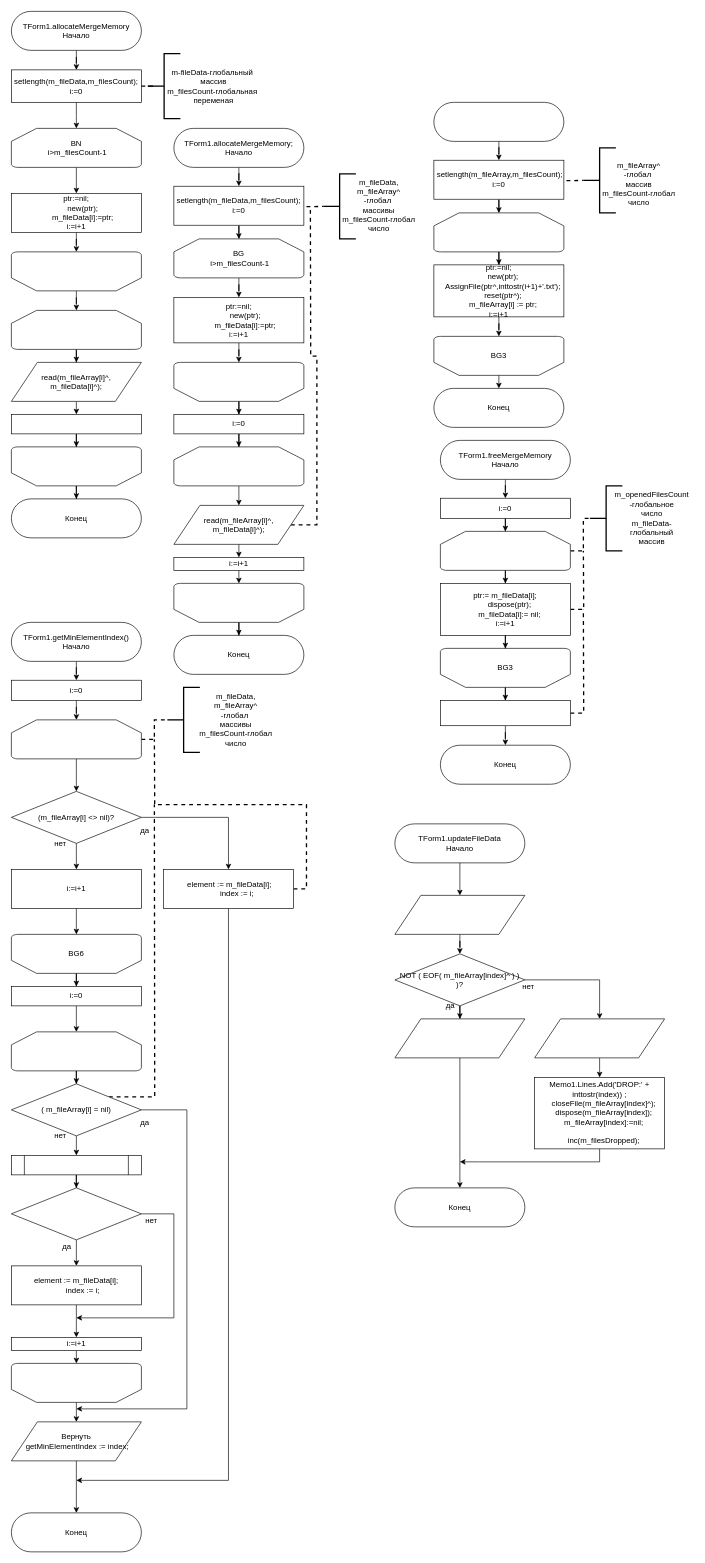
Some shapes in this 705 by 1563 pixel diagram are drawn without their labels. Here are the shapes that lost their labels. From the top down, the centre of each, then its label:
At pixel 498 121: "TForm1.filesArrayInit Начало".
At pixel 498 232: "BG3 i>m_filesCount-1".
At pixel 76 271: "BN".
At pixel 76 329: "BJ i>m_filesCount-1".
At pixel 238 381: "BG".
At pixel 76 424: "i:=i+1;".
At pixel 76 466: "BJ".
At pixel 238 466: "BG2 i>m_filesCount-1".
At pixel 505 550: "BG3 i>m_openedFilesCount-1".
At pixel 238 602: "BG2".
At pixel 505 713: "setlength(m_fileData,0);".
At pixel 76 739: "BG6 i>m_filesCount-1".
At pixel 459 914: "index".
At pixel 76 1051: "BG7 i>m_filesCount-1".
At pixel 459 1038: "read(m_fileArray[index]^, m_fileData[index]^)".
At pixel 599 1038: "Memo1.Lines.Add('DROP:' + inttostr(index))".
At pixel 76 1165: "z:=filmCompare( m_fileData[i],element)".
At pixel 76 1213: "z=-1".
At pixel 76 1382: "BG7".
